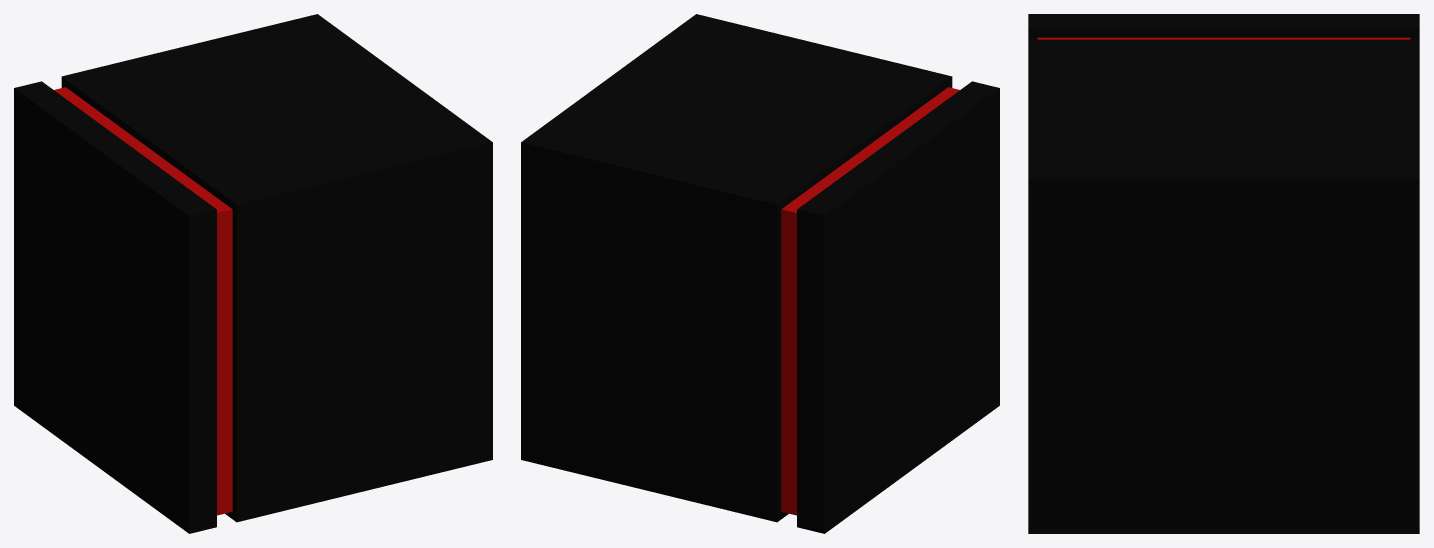
File: prop_tronbox.FBX
The picture shows the model from 3 angles, left to right: view 1: azimuth 30°, elevation 25°; view 2: azimuth 150°, elevation 25°; view 3: azimuth 270°, elevation 25°; orthographic projection. The views are drawn at different scales.
Visible parts, largest first — view 1: Box002; view 2: Box002; view 3: Box002.
Boxes of the visible parts, x1,y1,x2,y2 form: Box002: (14,14,492,533); Box002: (521,14,999,533); Box002: (1028,14,1419,533).
Bounding box in the file's own units: 1 × 1 × 1.
